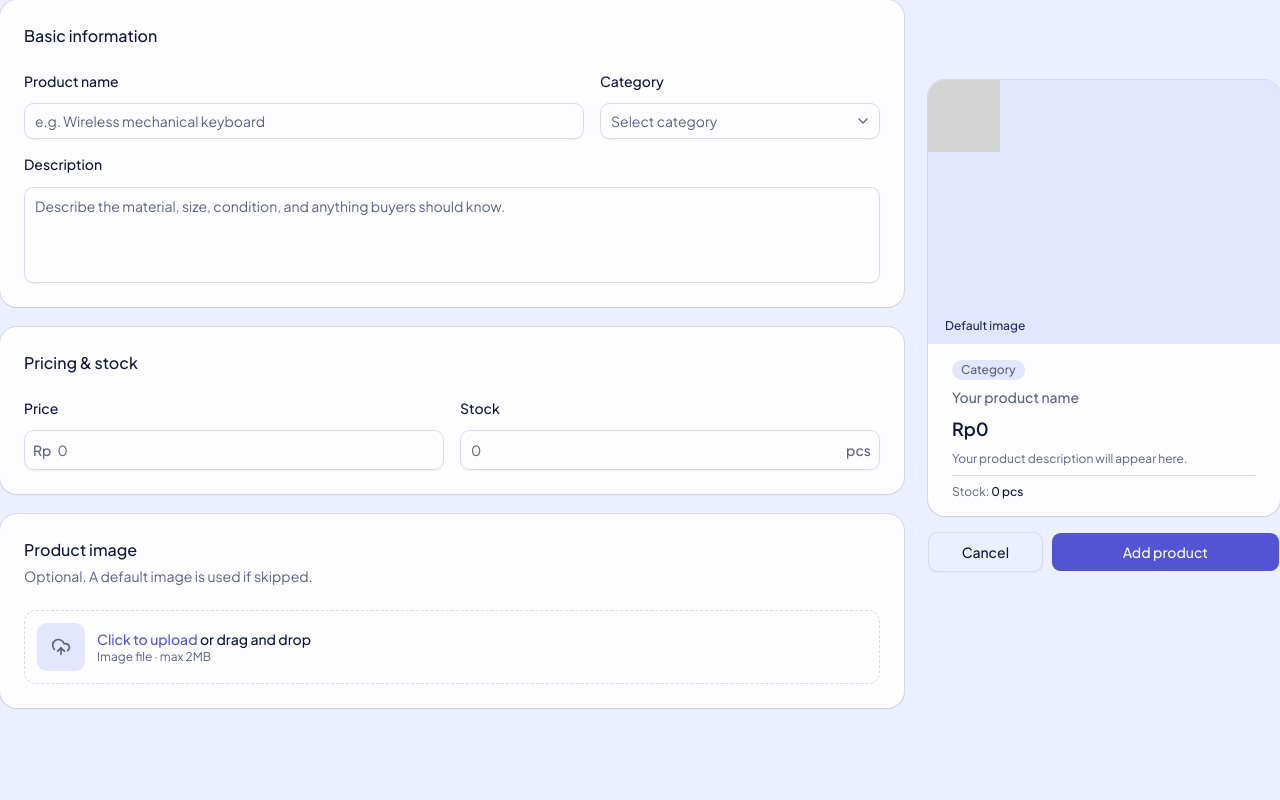
Test: ProductForm: tambah produk › submit kosong menampilkan semua pesan validasi
Step 1. Click the button "Add product" → click(1165, 552), box [1051, 532, 1279, 572]
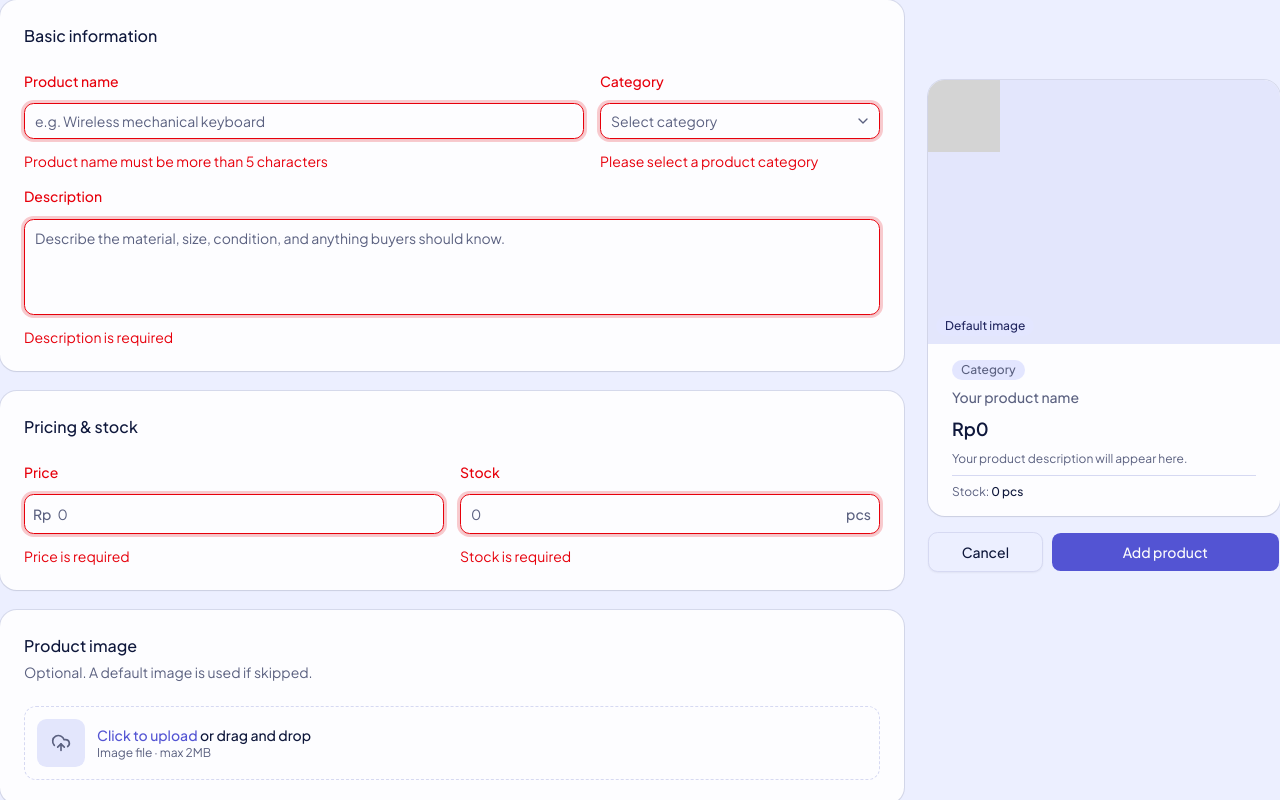
Now the text "Product name must be more than 5 characters" is shown, box [24, 152, 328, 170]
Now the text "Please select a product category" is shown, box [600, 152, 818, 170]
Now the text "Description is required" is shown, box [24, 328, 173, 346]
